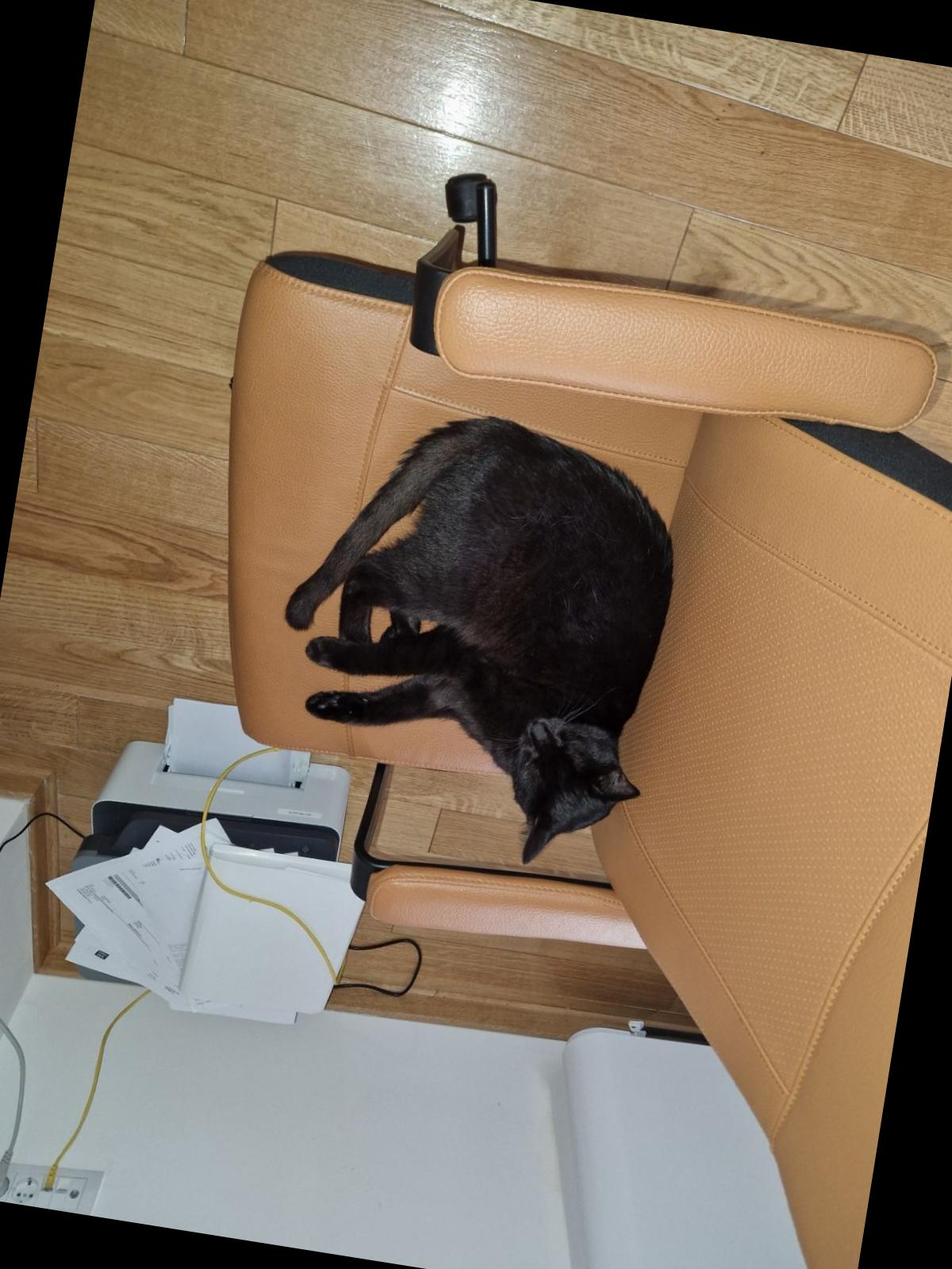macka: (248, 389, 696, 885)
